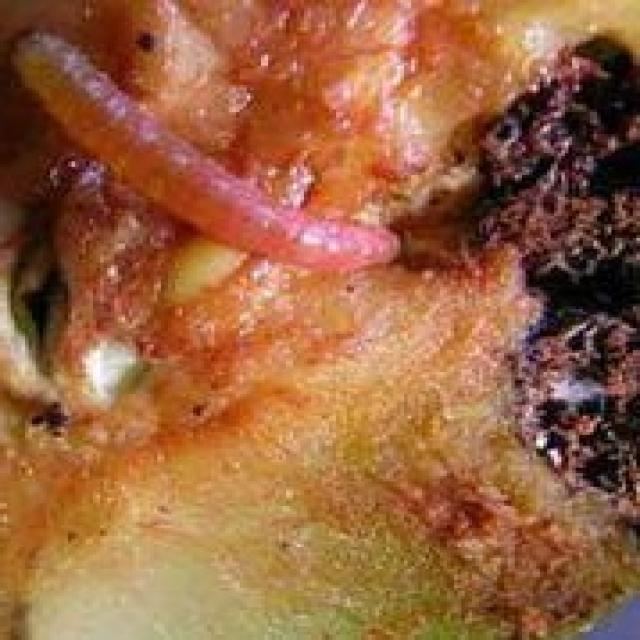peach borer: (8, 23, 409, 285)
